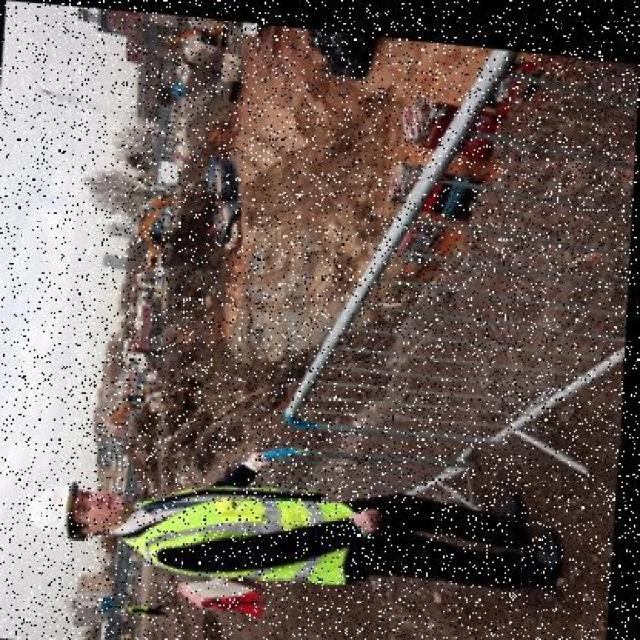helmet: (29, 472, 89, 540)
vest: (140, 462, 386, 588)
